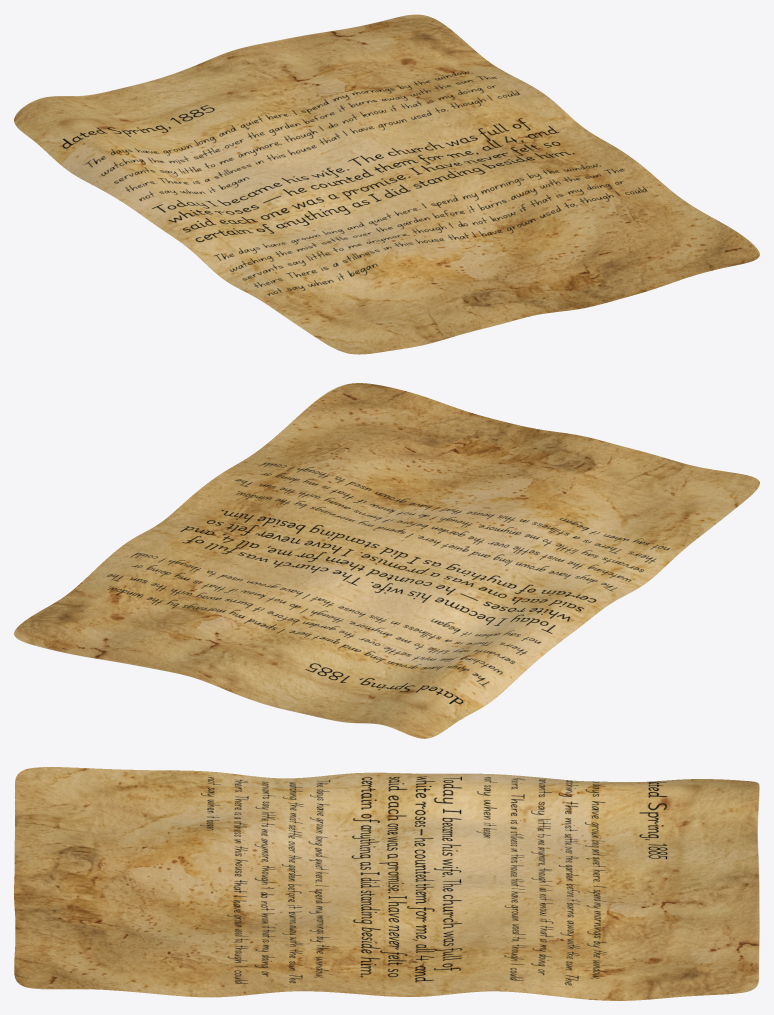
Rendered from paper.glb.
3 renders of one model, top to bottom at view 1: azimuth 30°, elevation 25°; view 2: azimuth 150°, elevation 25°; view 3: azimuth 270°, elevation 25°, orthographic. The views are drawn at different scales.
Visible parts, largest first — view 1: Plane.001; view 2: Plane.001; view 3: Plane.001.
Part boxes in pixels (x1=…): Plane.001: x1=14, y1=14, x2=759, y2=354; Plane.001: x1=14, y1=383, x2=759, y2=738; Plane.001: x1=14, y1=767, x2=759, y2=1000.
Bounding box in the file's own units: 0.2103 × 0.00791 × 0.2978.
Materials: 1 (1 with a texture image).
